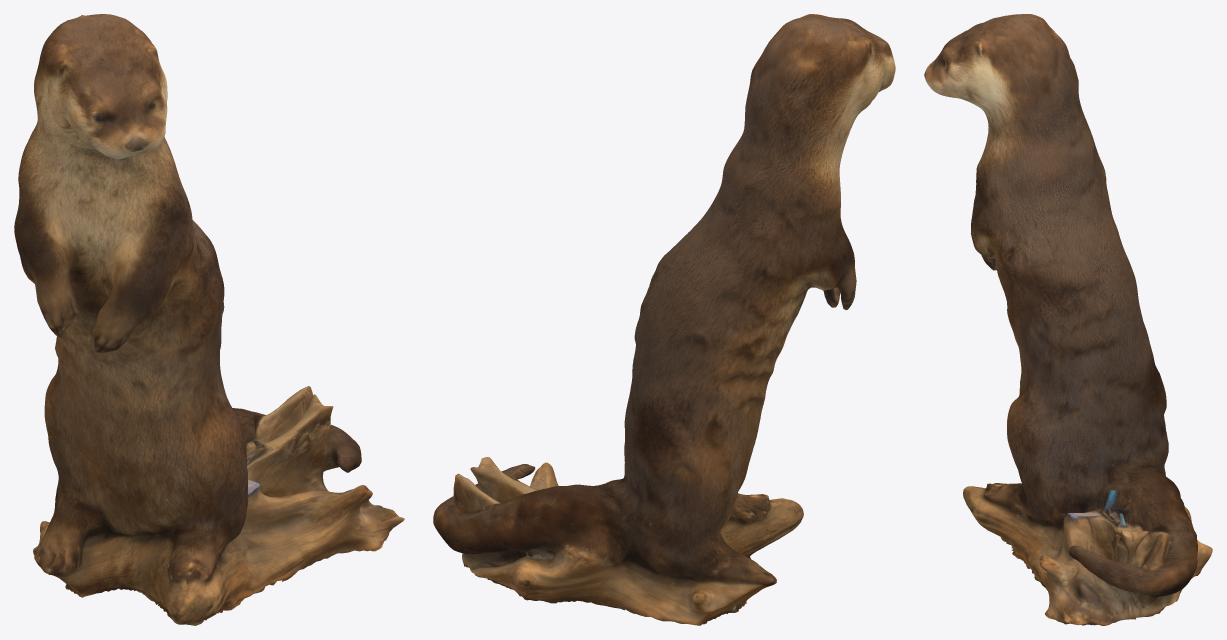
The model's file is river_otter_with_sound.glb.
The picture shows the model from 3 angles, left to right: view 1: azimuth 30°, elevation 25°; view 2: azimuth 150°, elevation 25°; view 3: azimuth 270°, elevation 25°; orthographic projection. The views are drawn at different scales.
Visible parts, largest first — view 1: Object_3; view 2: Object_3; view 3: Object_3.
Boxes of the visible parts, x1,y1,x2,y2 form: Object_3: [14, 14, 404, 625]; Object_3: [433, 14, 895, 625]; Object_3: [924, 14, 1212, 625].
Bounding box in the file's own units: 2.98 × 4.47 × 2.4.
Materials: 1 (1 with a texture image).
